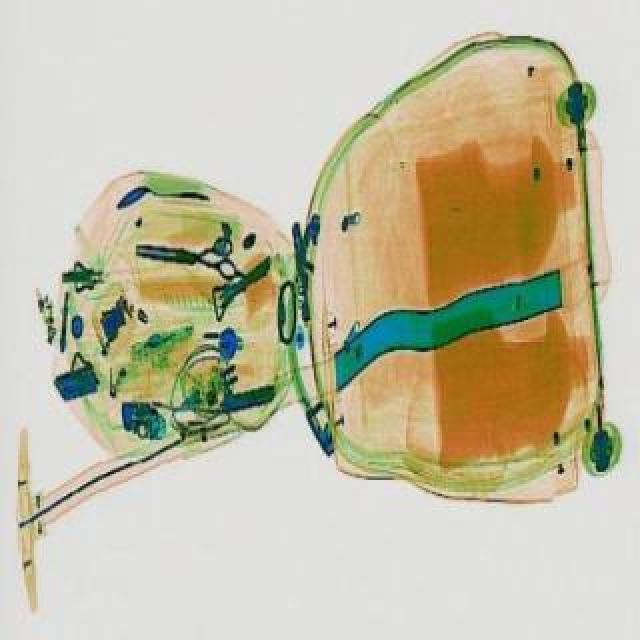pliers: (132, 230, 240, 286)
